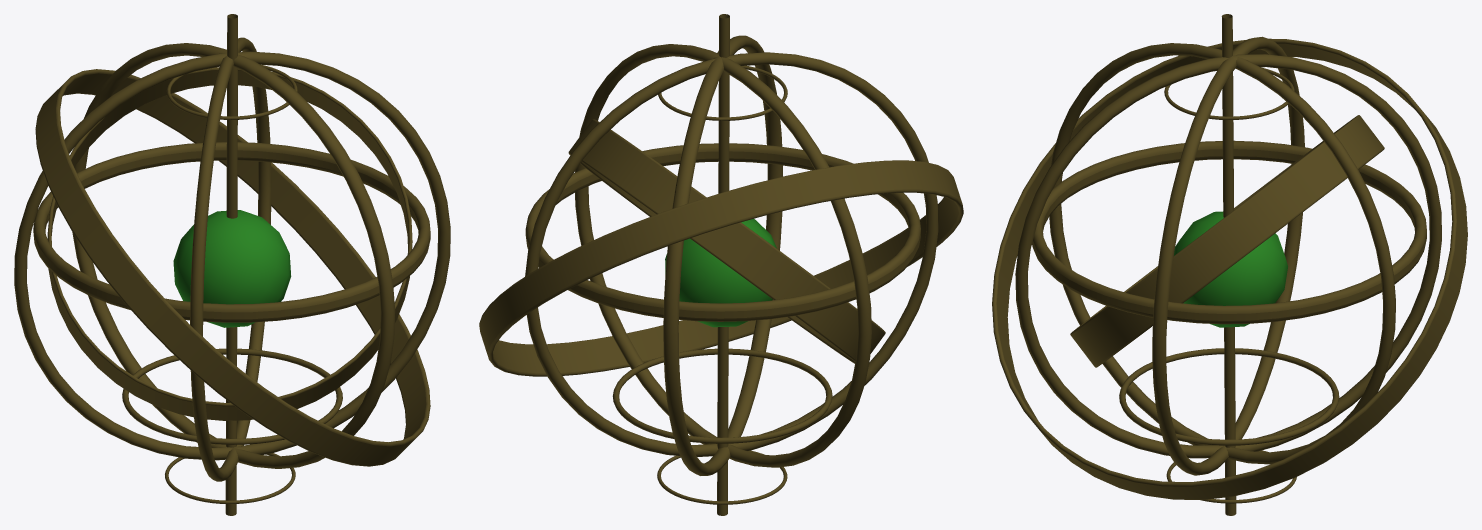
Rendered from Orb_4.fbx.
3 renders of one model, left to right at view 1: azimuth 30°, elevation 25°; view 2: azimuth 150°, elevation 25°; view 3: azimuth 270°, elevation 25°, orthographic.
Parts seen in each view (by area): view 1: BezierCircle.008, BezierCircle.006, BezierCircle, BezierCircle.003, BezierCircle.007, Sphere, BezierCircle.005, NurbsPath, BezierCircle.002, BezierCircle.004, BezierCircle.001; view 2: BezierCircle.008, BezierCircle.005, BezierCircle.006, BezierCircle.007, BezierCircle, BezierCircle.003, Sphere, NurbsPath, BezierCircle.002, BezierCircle.004, BezierCircle.001; view 3: BezierCircle.008, BezierCircle.003, BezierCircle.007, BezierCircle, BezierCircle.005, BezierCircle.006, Sphere, NurbsPath, BezierCircle.002, BezierCircle.001.
Part boxes in pixels (x1=…): BezierCircle.008: x1=35, y1=69, x2=430, y2=466; BezierCircle.006: x1=14, y1=51, x2=450, y2=460; BezierCircle: x1=33, y1=142, x2=430, y2=322; BezierCircle.003: x1=72, y1=43, x2=395, y2=468; BezierCircle.007: x1=47, y1=67, x2=412, y2=420; Sphere: x1=173, y1=210, x2=291, y2=327; BezierCircle.005: x1=190, y1=37, x2=271, y2=481; NurbsPath: x1=225, y1=14, x2=237, y2=515; BezierCircle.002: x1=122, y1=348, x2=342, y2=444; BezierCircle.004: x1=165, y1=453, x2=295, y2=504; BezierCircle.001: x1=166, y1=64, x2=297, y2=119; BezierCircle.008: x1=479, y1=160, x2=963, y2=376; BezierCircle.005: x1=525, y1=52, x2=938, y2=456; BezierCircle.006: x1=575, y1=44, x2=871, y2=467; BezierCircle.007: x1=568, y1=119, x2=885, y2=363; BezierCircle: x1=525, y1=143, x2=920, y2=321; BezierCircle.003: x1=663, y1=35, x2=782, y2=475; Sphere: x1=665, y1=218, x2=776, y2=327; NurbsPath: x1=717, y1=14, x2=729, y2=515; BezierCircle.002: x1=612, y1=348, x2=832, y2=443; BezierCircle.004: x1=657, y1=450, x2=787, y2=504; BezierCircle.001: x1=658, y1=65, x2=787, y2=120; BezierCircle.008: x1=992, y1=38, x2=1467, y2=499; BezierCircle.003: x1=1015, y1=54, x2=1441, y2=458; BezierCircle.007: x1=1070, y1=115, x2=1384, y2=367; BezierCircle: x1=1032, y1=140, x2=1426, y2=324; BezierCircle.005: x1=1049, y1=43, x2=1395, y2=464; BezierCircle.006: x1=1152, y1=36, x2=1304, y2=475; Sphere: x1=1174, y1=211, x2=1287, y2=327; NurbsPath: x1=1221, y1=14, x2=1236, y2=515; BezierCircle.002: x1=1119, y1=348, x2=1339, y2=445; BezierCircle.001: x1=1164, y1=67, x2=1294, y2=119.
Size of the model in its own units: 114 by 145 by 125.
